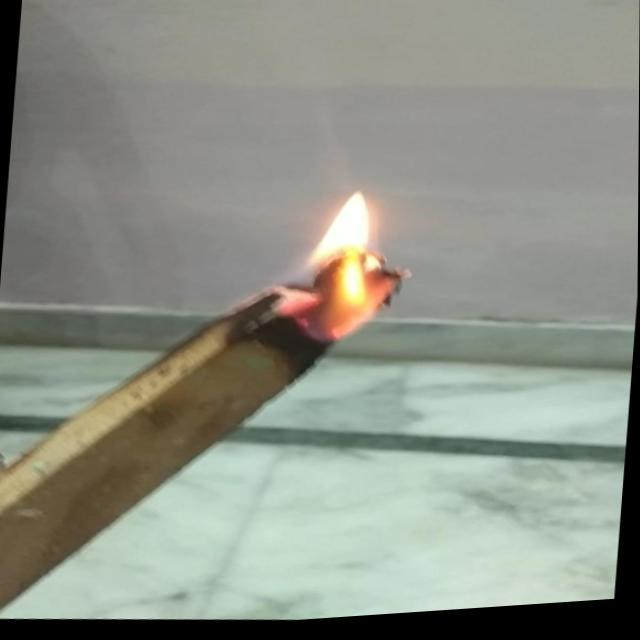fire: (266, 179, 424, 360)
